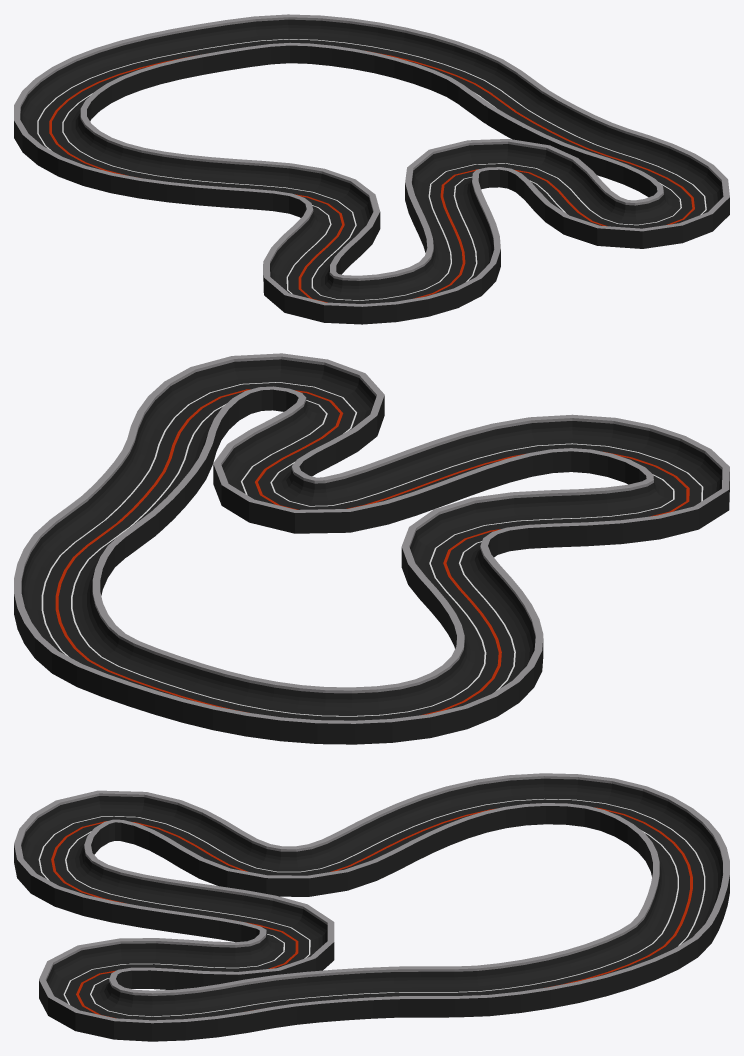
File: Track #4.fbx
3 renders of one model, top to bottom at view 1: azimuth 30°, elevation 25°; view 2: azimuth 150°, elevation 25°; view 3: azimuth 270°, elevation 25°, orthographic. The views are drawn at different scales.
Parts seen in each view (by area): view 1: Plane; view 2: Plane; view 3: Plane.
Part boxes in pixels (x1,y1,x2,y2): Plane: [14, 14, 729, 324]; Plane: [14, 353, 729, 744]; Plane: [14, 773, 729, 1041].
Bounding box in the file's own units: 4236 × 146 × 5127.
